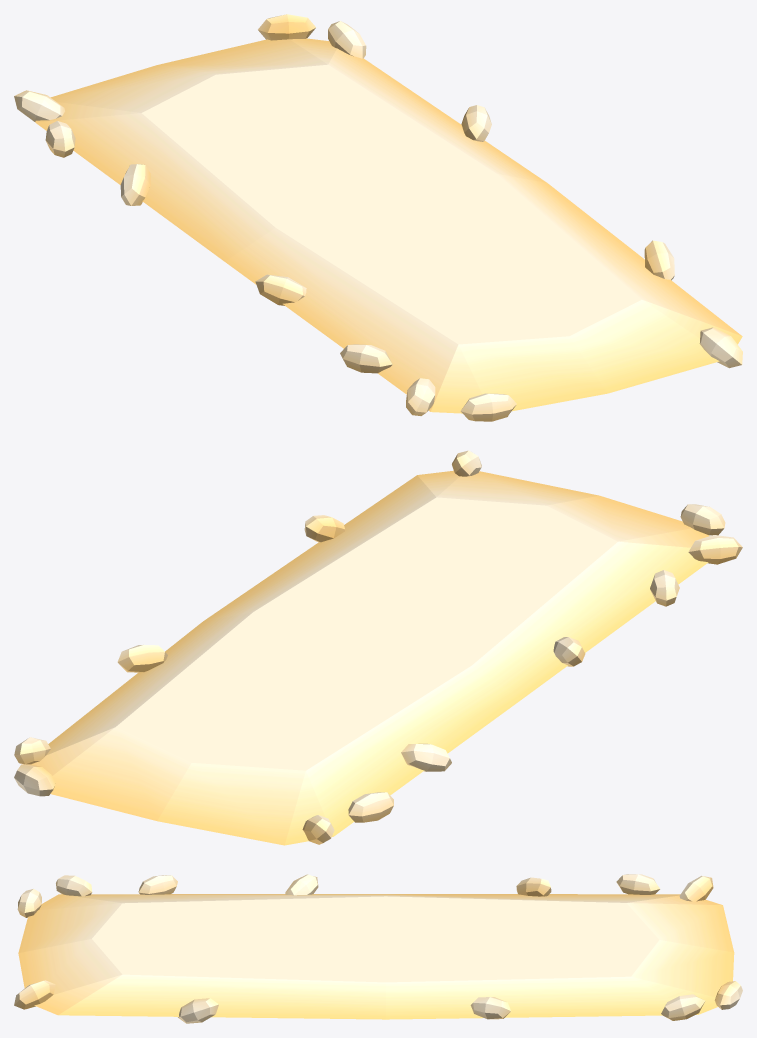
Rendered from Rice_001.gltf.
3 renders of one model, top to bottom at view 1: azimuth 30°, elevation 25°; view 2: azimuth 150°, elevation 25°; view 3: azimuth 270°, elevation 25°, orthographic. The views are drawn at different scales.
Visible parts, largest first — view 1: Rice_001_x; view 2: Rice_001_x; view 3: Rice_001_x.
Part boxes in pixels (left/top/right/bottom): Rice_001_x: left=14, top=14, right=742, bottom=421; Rice_001_x: left=14, top=450, right=742, bottom=845; Rice_001_x: left=14, top=874, right=742, bottom=1023.
Bounding box in the file's own units: 0.8645 × 0.0788 × 1.93.
1 material, 1 textured.
